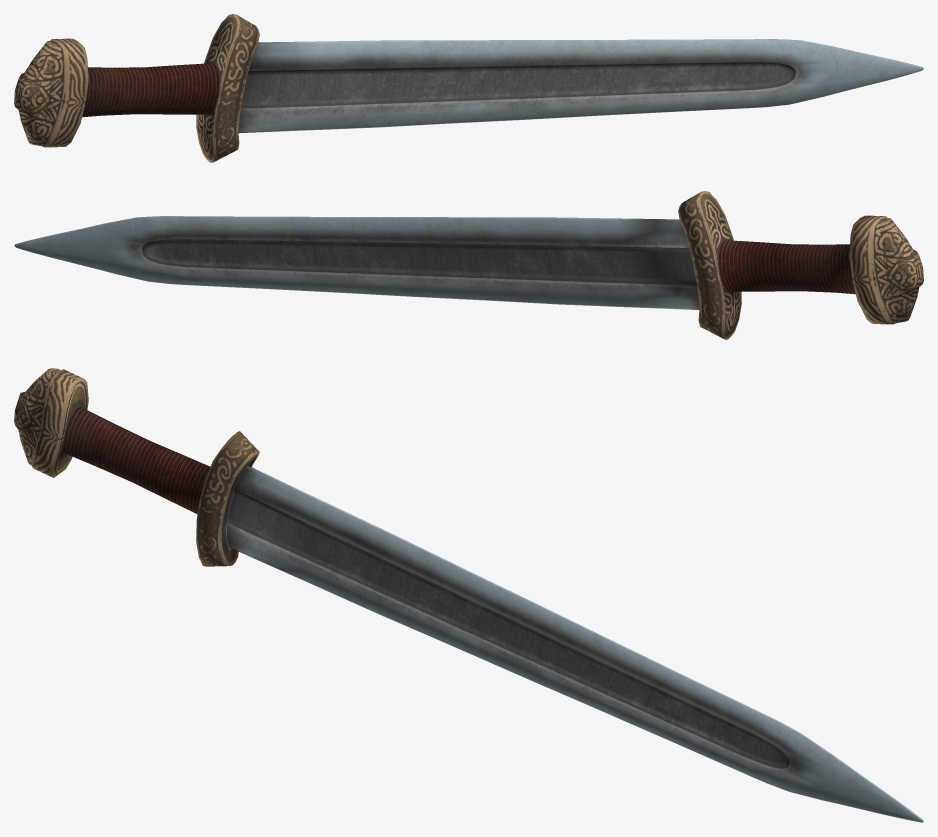
File: ironSword (C-zilbeerman).fbx
The picture shows the model from 3 angles, top to bottom: view 1: azimuth 30°, elevation 25°; view 2: azimuth 150°, elevation 25°; view 3: azimuth 330°, elevation 25°; orthographic projection.
Parts seen in each view (by area): view 1: Sword_blade.001; view 2: Sword_blade.001; view 3: Sword_blade.001.
Boxes of the visible parts, box(x1,y1,x2,y2) form: Sword_blade.001: box(14, 14, 923, 162); Sword_blade.001: box(14, 191, 923, 339); Sword_blade.001: box(14, 368, 923, 822).
Size of the model in its own units: 24268 by 6195 by 1201.
